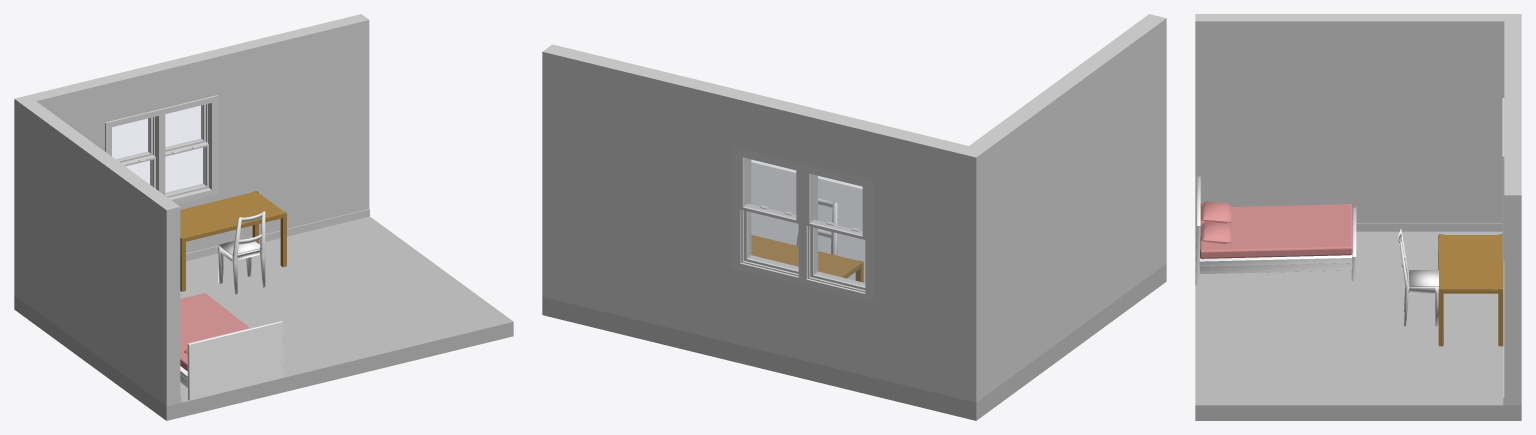
The model's file is L12_W16_furniture2_daylight2.glb.
3 renders of one model, left to right at view 1: azimuth 30°, elevation 25°; view 2: azimuth 150°, elevation 25°; view 3: azimuth 270°, elevation 25°, orthographic. The views are drawn at different scales.
Size of the model in its own units: 200 by 116 by 152.
